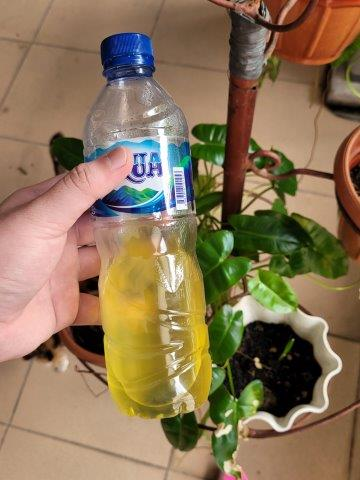botolplastik: (81, 33, 213, 417)
